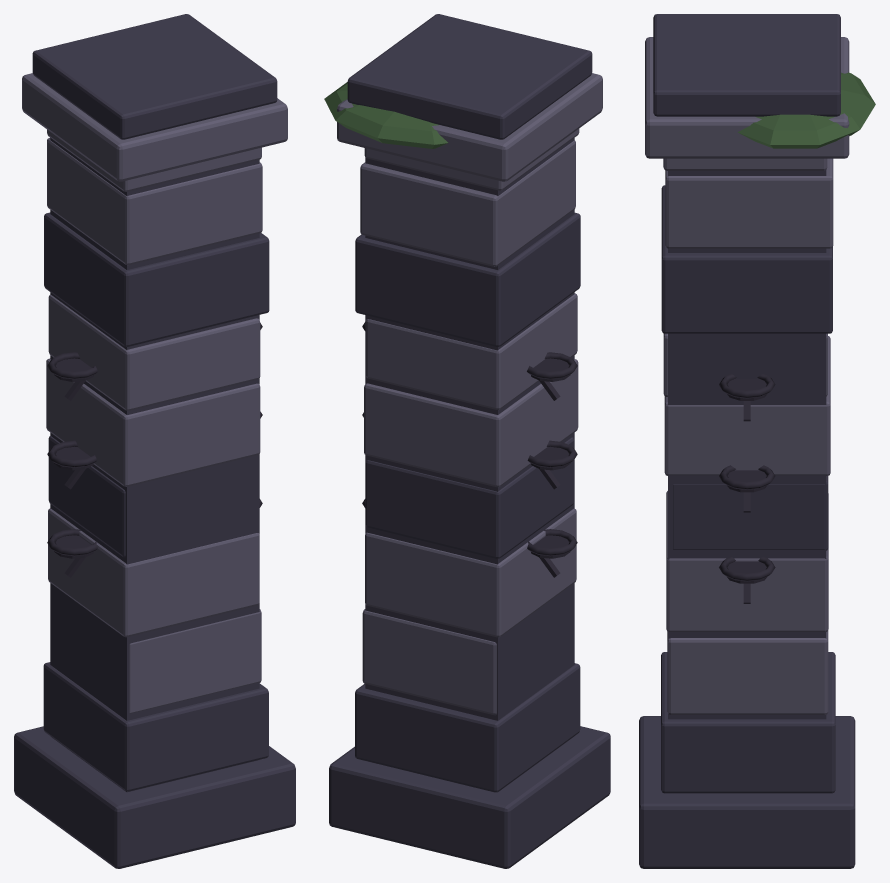
File: crypt-pillar.glb
3 views of the same model, side by side, from view 1: azimuth 30°, elevation 25°; view 2: azimuth 150°, elevation 25°; view 3: azimuth 270°, elevation 25° (orthographic). The views are drawn at different scales.
Visible parts, largest first — view 1: crypt-pillar.001; view 2: crypt-pillar.001; view 3: crypt-pillar.001.
Boxes of the visible parts, bbox=[...] form: crypt-pillar.001: bbox=[14, 14, 295, 868]; crypt-pillar.001: bbox=[324, 14, 610, 868]; crypt-pillar.001: bbox=[639, 14, 875, 868].
Size of the model in its own units: 1.07 by 3.55 by 0.986.
